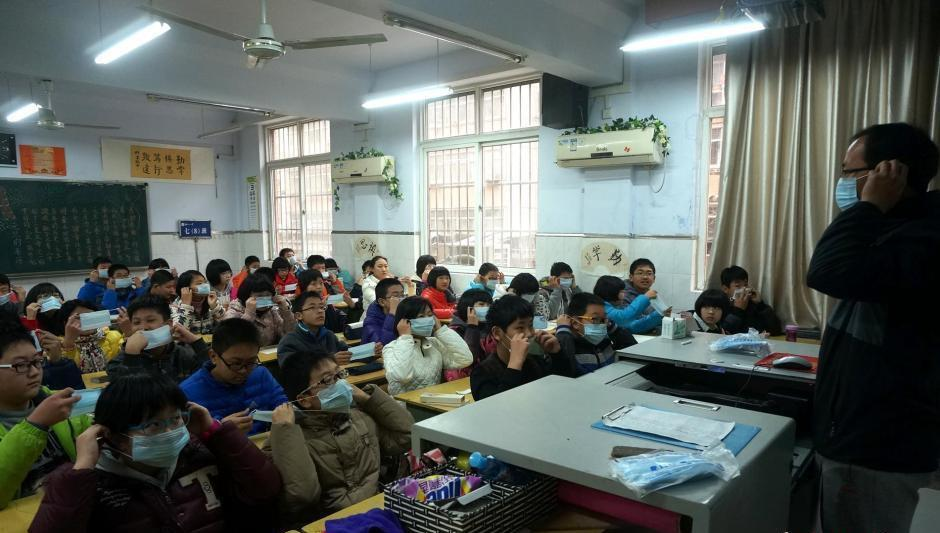NONE: (6, 352, 47, 393), (217, 350, 257, 386), (75, 309, 99, 336), (306, 300, 327, 325), (634, 266, 655, 289), (703, 301, 723, 324), (307, 280, 325, 299), (161, 280, 176, 299), (436, 275, 452, 292), (375, 261, 390, 278), (220, 269, 233, 285), (424, 263, 437, 278), (617, 286, 627, 305), (278, 268, 289, 280)
OK: (132, 409, 187, 467), (835, 159, 880, 214), (307, 362, 354, 409), (582, 310, 609, 342), (37, 288, 62, 316), (413, 310, 437, 338), (385, 289, 407, 313), (474, 299, 493, 322), (192, 276, 211, 298), (1, 281, 15, 307), (520, 288, 539, 304), (114, 273, 132, 289), (559, 273, 574, 289), (486, 273, 500, 290), (100, 266, 114, 279), (327, 266, 340, 279), (285, 252, 297, 265), (250, 262, 261, 276)
WRONG: (132, 311, 166, 345), (509, 316, 536, 355), (726, 272, 748, 301), (253, 286, 273, 310), (311, 262, 326, 279)
